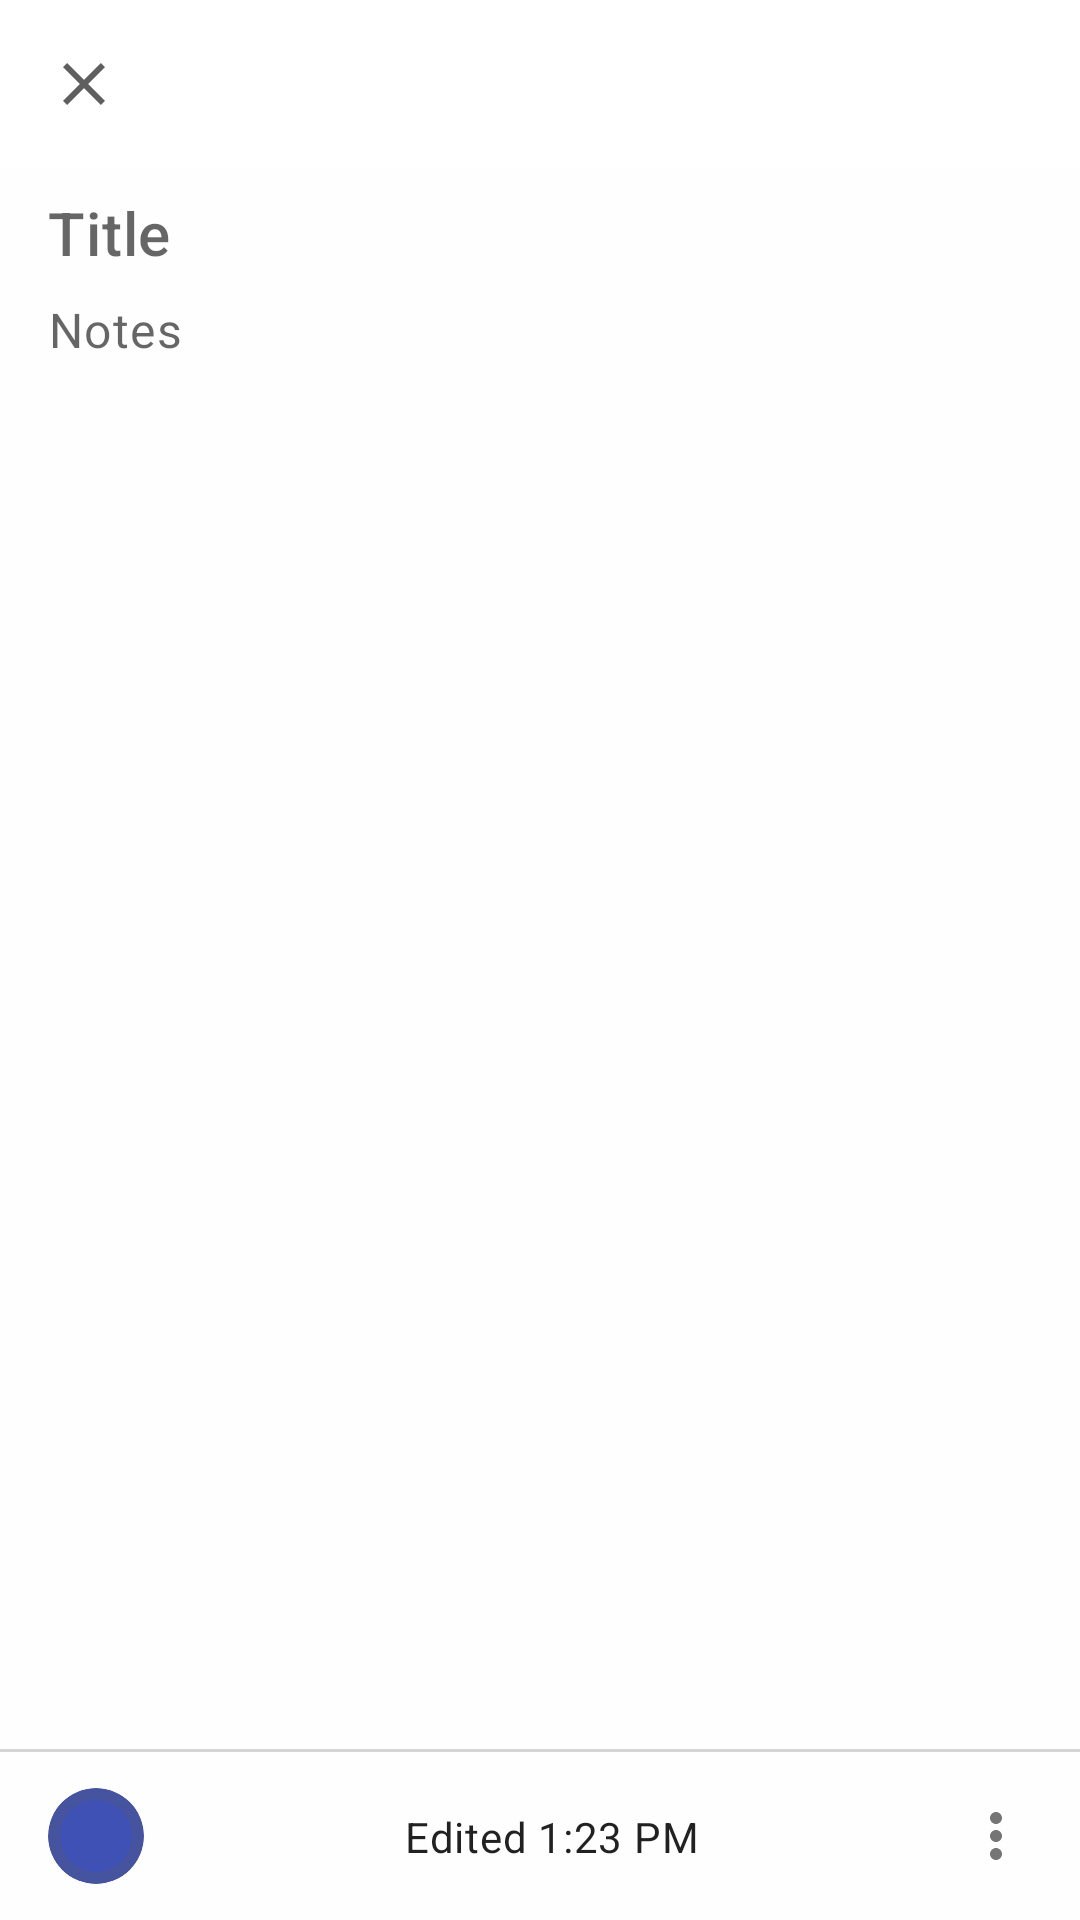

Icon bounding boxes for this 1080px×1920px phone screenshot, format [left=x1, top=y1, right=x2, bottom=y2]:
more vert: [left=990, top=1812, right=1002, bottom=1860]
